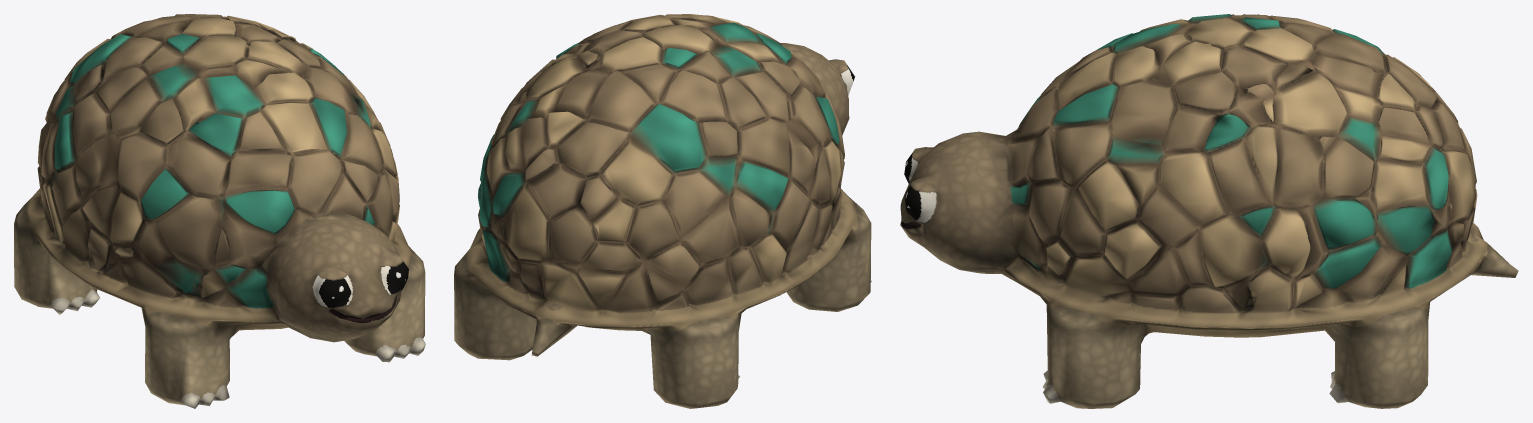
Rendered from CR_Teselo_Brote_v01.obj.
The picture shows the model from 3 angles, left to right: view 1: azimuth 30°, elevation 25°; view 2: azimuth 150°, elevation 25°; view 3: azimuth 270°, elevation 25°; orthographic projection. The views are drawn at different scales.
Parts seen in each view (by area): view 1: CR_Teselo_Brote_v01; view 2: CR_Teselo_Brote_v01; view 3: CR_Teselo_Brote_v01.
Boxes of the visible parts, x1,y1,x2,y2 form: CR_Teselo_Brote_v01: [14, 14, 425, 408]; CR_Teselo_Brote_v01: [454, 14, 871, 408]; CR_Teselo_Brote_v01: [900, 14, 1518, 408].
Size of the model in its own units: 1.98 by 1.77 by 3.18.
Materials: 1 (1 with a texture image).
